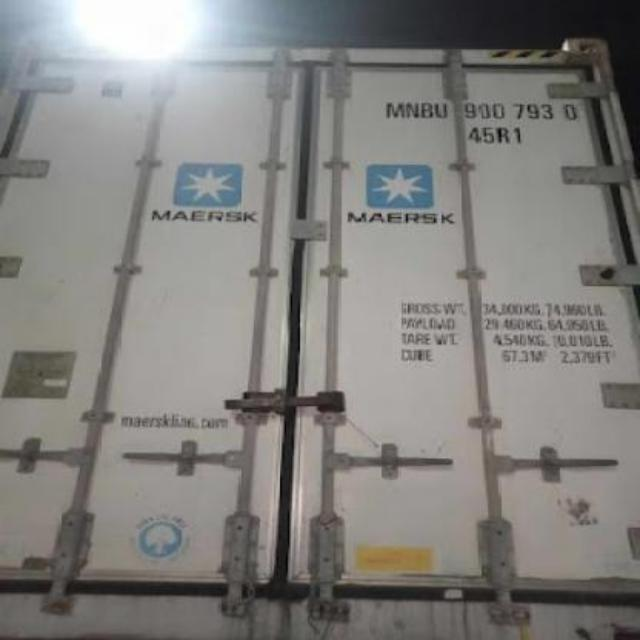0: (562, 98, 578, 122), (476, 95, 489, 122), (491, 98, 504, 122)
3: (538, 98, 552, 120)
7: (512, 98, 526, 120)
9: (464, 98, 476, 120), (526, 98, 538, 120)
B: (420, 98, 432, 119)
M: (384, 98, 404, 122)
N: (404, 96, 420, 120)
U: (434, 98, 450, 118)
